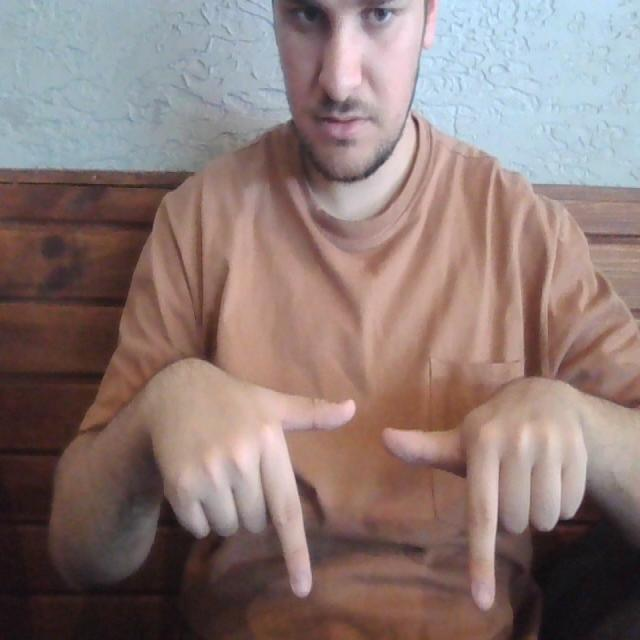Nerede: (257, 385, 515, 617)
